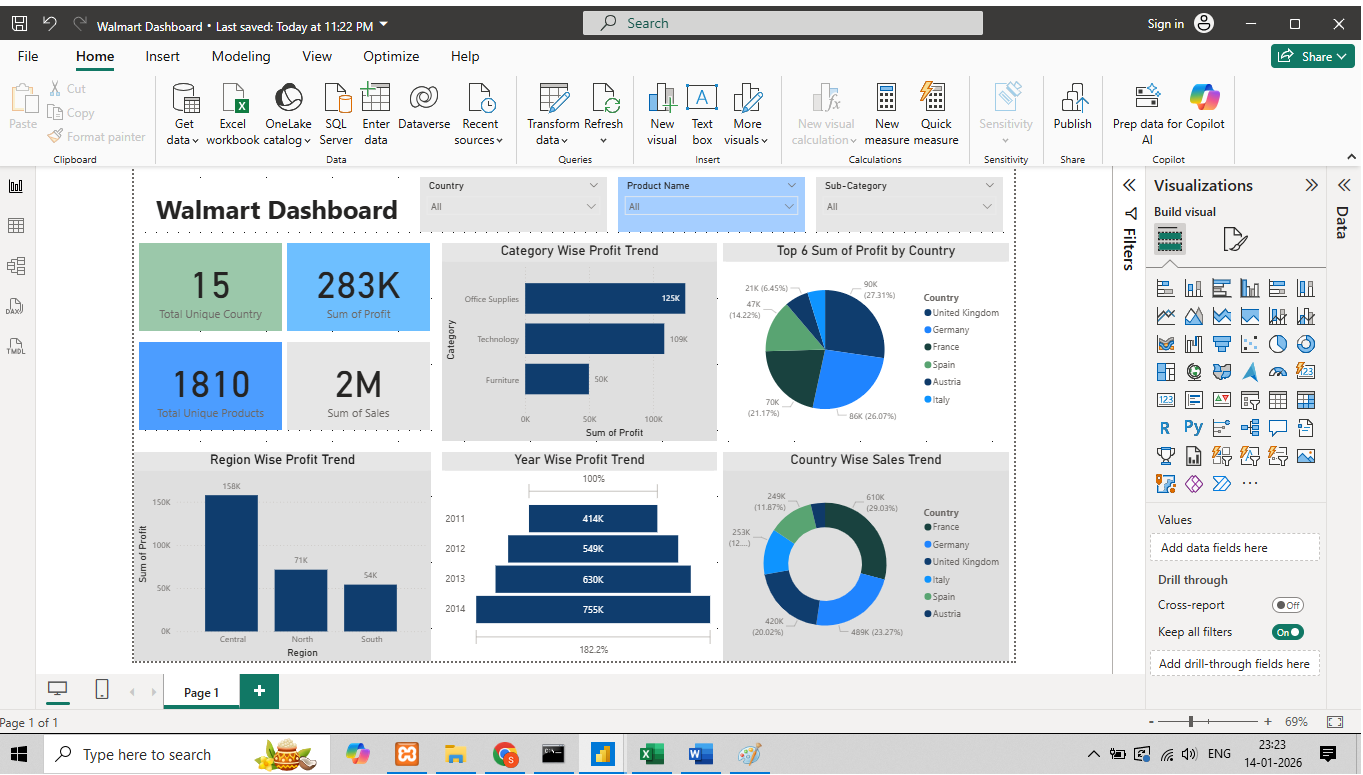

What the dashboard file says about the page in this screenshot:
{"tool":"powerbi","page":{"name":"Page 1","canvas":[1280,720],"ordinal":0},"visuals":[{"type":"funnel","title":"Year Wise Profit Trend","fields":{"Category":["Sheet1.Order Date.Variation.Date Hierarchy.Year"],"Y":["Sum(Sheet1.Sales)"]},"box":[448,416,400,304],"z":0},{"type":"donutChart","title":"Country Wise Sales Trend","fields":{"Category":["Sheet1.Country"],"Y":["Sum(Sheet1.Sales)"]},"box":[856.7,416,416,304],"z":1000},{"type":"columnChart","title":"Region Wise Profit Trend","fields":{"Y":["Sum(Sheet1.Profit)"],"Category":["Sheet1.Region"]},"box":[0,416,432,304],"z":2000},{"type":"barChart","title":"Category Wise Profit Trend","fields":{"Y":["Sum(Sheet1.Profit)"],"Category":["Sheet1.Category"]},"box":[448,112,400,288],"z":3000},{"type":"pieChart","title":"Top 6 Sum of Profit by Country","fields":{"Category":["Sheet1.Country"],"Y":["Sum(Sheet1.Profit)"]},"box":[856.7,112,416,288],"z":4000},{"type":"card","fields":{"Values":["Sheet1.total-unique-country"]},"box":[7.1,112.6,208,128],"z":5000},{"type":"card","fields":{"Values":["Sheet1.total-unique-products"]},"box":[7.1,256.6,208,128],"z":6000},{"type":"card","fields":{"Values":["Sum(Sheet1.Profit)"]},"box":[222.2,112.5,208,128],"z":7000},{"type":"card","fields":{"Values":["Sum(Sheet1.Sales)"]},"box":[222.2,256.5,208,128],"z":8000},{"type":"slicer","fields":{"Values":["Sheet1.Country"]},"box":[416,16,272,80],"z":9000},{"type":"slicer","fields":{"Values":["Sheet1.Product Name"]},"box":[704,16,272,80],"z":10000},{"type":"slicer","fields":{"Values":["Sheet1.Sub-Category"]},"box":[992,16,272,80],"z":11000},{"type":"textbox","box":[0,32,416,64],"z":12000}]}

Visuals, with their boxes on the page's 1280x720 design canvas (x1, y1, x2, y2). These are canvas units, not pixel positions in the 1363x775 screenshot, which may show the page scaled, cropped or inside an application window:
"Year Wise Profit Trend" funnel: [448, 416, 848, 720]
"Country Wise Sales Trend" donutChart: [857, 416, 1273, 720]
"Region Wise Profit Trend" columnChart: [0, 416, 432, 720]
"Category Wise Profit Trend" barChart: [448, 112, 848, 400]
"Top 6 Sum of Profit by Country" pieChart: [857, 112, 1273, 400]
card - Sheet1.total-unique-country: [7, 113, 215, 241]
card - Sheet1.total-unique-products: [7, 257, 215, 385]
card - Sum(Sheet1.Profit): [222, 112, 430, 240]
card - Sum(Sheet1.Sales): [222, 256, 430, 384]
slicer - Sheet1.Country: [416, 16, 688, 96]
slicer - Sheet1.Product Name: [704, 16, 976, 96]
slicer - Sheet1.Sub-Category: [992, 16, 1264, 96]
textbox: [0, 32, 416, 96]
